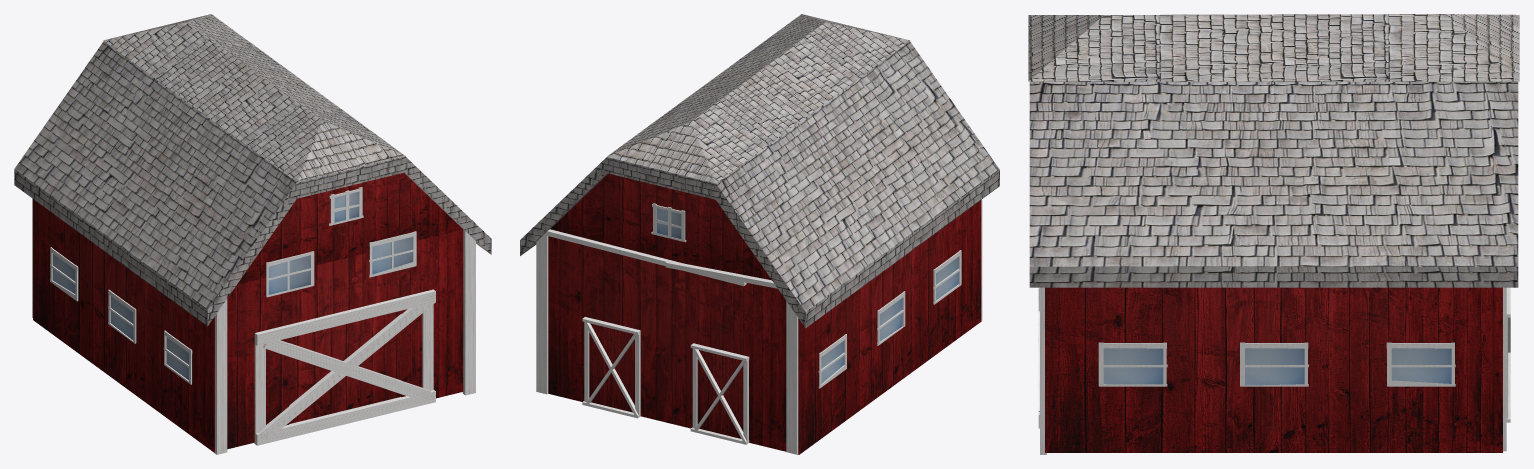
Rendered from Barn4.FBX.
3 views of the same model, side by side, from view 1: azimuth 30°, elevation 25°; view 2: azimuth 150°, elevation 25°; view 3: azimuth 270°, elevation 25° (orthographic). The views are drawn at different scales.
Visible parts, largest first — view 1: Box003, Box001, Box005, Box002, Box040, Box042, Box008, Box057, Box041, Box062, Box064, Plane007 (+7 smaller); view 2: Box001, Box003, Box005, Box002, Box102, Box011, Box109, Box110, Box035, Box034, Plane002, Plane003 (+4 smaller); view 3: Box003, Box001, Box005, Plane004, Plane005, Plane006, Box062, Box109.
Part boxes in pixels (left/top/right/bottom): Box003: left=14, top=41, right=491, bottom=326; Box001: left=33, top=199, right=463, bottom=452; Box005: left=103, top=14, right=405, bottom=182; Box002: left=237, top=172, right=462, bottom=284; Box040: left=289, top=311, right=401, bottom=423; Box042: left=258, top=297, right=435, bottom=443; Box008: left=254, top=289, right=435, bottom=345; Box057: left=254, top=390, right=435, bottom=445; Box041: left=263, top=338, right=430, bottom=400; Box062: left=462, top=230, right=475, bottom=395; Box064: left=214, top=299, right=227, bottom=454; Plane007: left=268, top=255, right=310, bottom=294; Box001: left=548, top=200, right=981, bottom=454; Box003: left=520, top=41, right=999, bottom=328; Box005: left=607, top=14, right=910, bottom=183; Box002: left=550, top=173, right=771, bottom=280; Box102: left=697, top=350, right=743, bottom=438; Box011: left=589, top=323, right=634, bottom=412; Box109: left=536, top=235, right=548, bottom=394; Box110: left=786, top=301, right=798, bottom=454; Box035: left=543, top=229, right=746, bottom=286; Box034: left=665, top=260, right=777, bottom=288; Plane002: left=879, top=298, right=902, bottom=341; Plane003: left=936, top=257, right=958, bottom=300; Box003: left=1029, top=81, right=1518, bottom=287; Box001: left=1045, top=287, right=1502, bottom=452; Box005: left=1028, top=14, right=1519, bottom=81; Plane004: left=1103, top=348, right=1163, bottom=384; Plane005: left=1245, top=348, right=1304, bottom=385; Plane006: left=1391, top=348, right=1451, bottom=383; Box062: left=1040, top=287, right=1046, bottom=454; Box109: left=1503, top=287, right=1506, bottom=451.
Size of the model in its own units: 272 by 260 by 322.
Materials: 4 (4 with a texture image).
